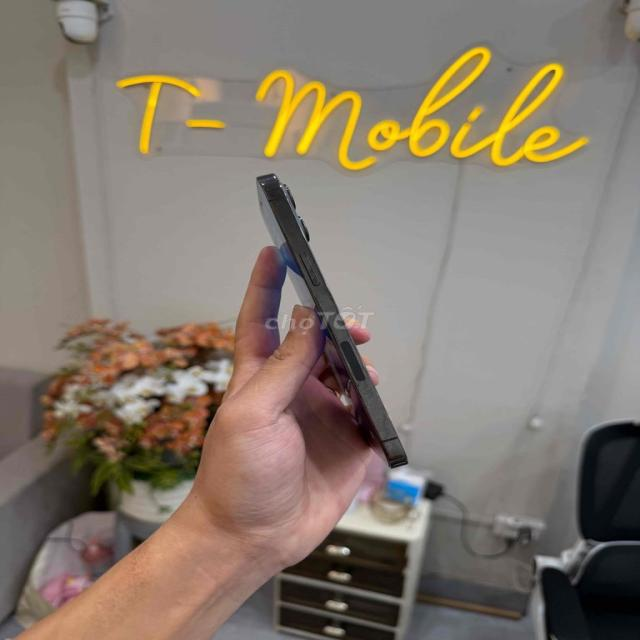gen_12_13: (247, 166, 413, 476)
